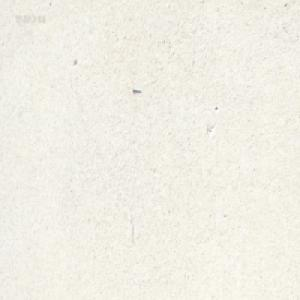Nail: (131, 87, 141, 92)
